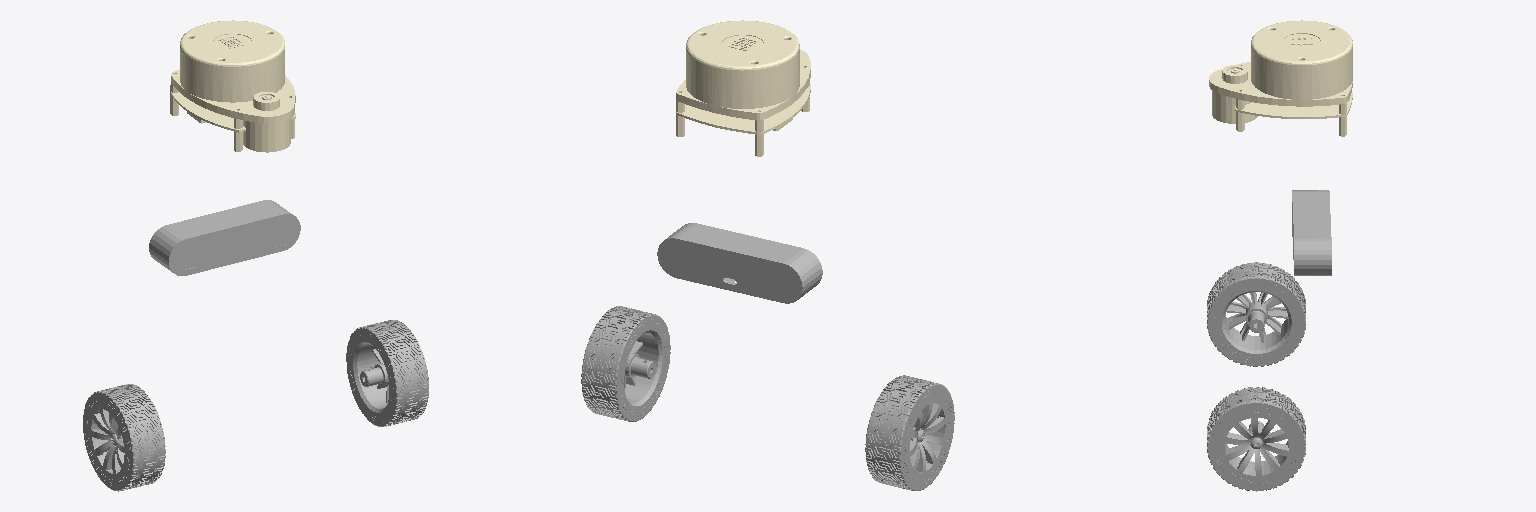
The robot description file, URDF, robot "robot_differential_sena":
<?xml version="1.0" encoding="utf-8"?>
<!-- This URDF was automatically created by SolidWorks to URDF Exporter! Originally created by [author] ([email redacted]) 
     Commit Version: 1.6.0-1-g15f4949  Build Version: 1.6.7594.29634
     For more information, please see http://wiki.ros.org/sw_urdf_exporter -->
<robot
  name="robot_differential_sena">
  <link
    name="base_link">
    <inertial>
      <origin
        xyz="-0.00071212 -0.046397 0.099495"
        rpy="0 0 0" />
      <mass
        value="3" />
      <inertia
        ixx="0.003316"
        ixy="0"
        ixz="0"
        iyy="0.0042711"
        iyz="0"
        izz="0.0068629" />
    </inertial>
    <visual>
      <origin
        xyz="0 0 0"
        rpy="0 0 0" />
      <geometry>
        <mesh
          filename="package://robot_differential_sena/meshes/base_link.STL" />
      </geometry>
      <material
        name="">
        <color
          rgba="0.61961 0.40784 0.2 1" />
      </material>
    </visual>
    <collision>
      <origin
        xyz="0 0 0"
        rpy="0 0 0" />
      <geometry>
        <mesh
          filename="package://robot_differential_sena/meshes/base_link.STL" />
      </geometry>
    </collision>
  </link>
  <link
    name="RuedaIzquierda_Link">
    <inertial>
      <origin
        xyz="-0.018807 1.1948E-08 -5.6798E-08"
        rpy="0 0 0" />
      <mass
        value="0.033874" />
      <inertia
        ixx="2.3297E-05"
        ixy="2.9866E-12"
        ixz="-6.1004E-12"
        iyy="1.2633E-05"
        iyz="5.6052E-10"
        izz="1.2633E-05" />
    </inertial>
    <visual>
      <origin
        xyz="0 0 0"
        rpy="0 0 0" />
      <geometry>
        <mesh
          filename="package://robot_differential_sena/meshes/RuedaIzquierda_Link.STL" />
      </geometry>
      <material
        name="">
        <color
          rgba="0.75294 0.75294 0.75294 1" />
      </material>
    </visual>
    <collision>
      <origin
        xyz="0 0 0"
        rpy="0 0 0" />
      <geometry>
        <mesh
          filename="package://robot_differential_sena/meshes/RuedaIzquierda_Link.STL" />
      </geometry>
    </collision>
  </link>
  <joint
    name="RuedaIzquierda_Joint"
    type="continuous">
    <origin
      xyz="-0.0824500000000007 0.0560468635614915 0.0195000000000003"
      rpy="2.18695048006706 0 0" />
    <parent
      link="base_link" />
    <child
      link="RuedaIzquierda_Link" />
    <axis
      xyz="1 0 0" />
  </joint>
  <link
    name="RuedaDerecha_Link">
    <inertial>
      <origin
        xyz="-0.018807 1.1948E-08 -5.6798E-08"
        rpy="0 0 0" />
      <mass
        value="0.033874" />
      <inertia
        ixx="2.3297E-05"
        ixy="2.9866E-12"
        ixz="-6.1004E-12"
        iyy="1.2633E-05"
        iyz="5.6052E-10"
        izz="1.2633E-05" />
    </inertial>
    <visual>
      <origin
        xyz="0 0 0"
        rpy="0 0 0" />
      <geometry>
        <mesh
          filename="package://robot_differential_sena/meshes/RuedaDerecha_Link.STL" />
      </geometry>
      <material
        name="">
        <color
          rgba="0.75294 0.75294 0.75294 1" />
      </material>
    </visual>
    <collision>
      <origin
        xyz="0 0 0"
        rpy="0 0 0" />
      <geometry>
        <mesh
          filename="package://robot_differential_sena/meshes/RuedaDerecha_Link.STL" />
      </geometry>
    </collision>
  </link>
  <joint
    name="RuedaDerecha_Joint"
    type="continuous">
    <origin
      xyz="0.0824499999999997 0.0560468635614933 0.0194999999999997"
      rpy="-2.4864570903593 0 3.14159265358979" />
    <parent
      link="base_link" />
    <child
      link="RuedaDerecha_Link" />
    <axis
      xyz="1 0 0" />
  </joint>
  <link
    name="Camara_Link">
    <inertial>
      <origin
        xyz="-5.878E-05 0.0011119 -0.0003685"
        rpy="0 0 0" />
      <mass
        value="0.01531" />
      <inertia
        ixx="1.7534E-06"
        ixy="-7.2563E-11"
        ixz="1.0539E-09"
        iyy="1.574E-05"
        iyz="-2.3537E-08"
        izz="1.6733E-05" />
    </inertial>
    <visual>
      <origin
        xyz="0 0 0"
        rpy="0 0 0" />
      <geometry>
        <mesh
          filename="package://robot_differential_sena/meshes/Camara_Link.STL" />
      </geometry>
      <material
        name="">
        <color
          rgba="0.75294 0.75294 0.75294 1" />
      </material>
    </visual>
    <collision>
      <origin
        xyz="0 0 0"
        rpy="0 0 0" />
      <geometry>
        <mesh
          filename="package://robot_differential_sena/meshes/Camara_Link.STL" />
      </geometry>
    </collision>
  </link>
  <joint
    name="Camara_Joint"
    type="fixed">
    <origin
      xyz="-0.00195837494962821 0.0932796943801035 0.1263"
      rpy="1.5707963267949 0 0.0185195771248791" />
    <parent
      link="base_link" />
    <child
      link="Camara_Link" />
    <axis
      xyz="0 0 0" />
  </joint>
  <link
    name="Lidar_Link">
    <inertial>
      <origin
        xyz="-0.0074842 -0.010758 -9.2198E-05"
        rpy="0 0 0" />
      <mass
        value="0" />
      <inertia
        ixx="0.00060896"
        ixy="-0.00015822"
        ixz="-8.019E-07"
        iyy="0.001091"
        iyz="3.1026E-06"
        izz="0.00095226" />
    </inertial>
    <visual>
      <origin
        xyz="0 0 0"
        rpy="0 0 0" />
      <geometry>
        <mesh
          filename="package://robot_differential_sena/meshes/Lidar_Link.STL" />
      </geometry>
      <material
        name="">
        <color
          rgba="1 0.96471 0.84314 1" />
      </material>
    </visual>
    <collision>
      <origin
        xyz="0 0 0"
        rpy="0 0 0" />
      <geometry>
        <mesh
          filename="package://robot_differential_sena/meshes/Lidar_Link.STL" />
      </geometry>
    </collision>
  </link>
  <joint
    name="Lidar_Joint"
    type="fixed">
    <origin
      xyz="0 0.07275 0.2396"
      rpy="-1.5707963267949 0 -1.5707963267949" />
    <parent
      link="base_link" />
    <child
      link="Lidar_Link" />
    <axis
      xyz="0 0 0" />
  </joint>
</robot>

--- Facts derived from the render (not from the file) ---
Views: 3 orthographic renders of the robot side by side, from view 1: azimuth 30°, elevation 25°; view 2: azimuth 150°, elevation 25°; view 3: azimuth 270°, elevation 25°.
Model robot_differential_sena with 5 links and 4 joints (2 continuous, 2 fixed), rooted at base_link, posed every joint at zero.
Visible links, largest first — view 1: Lidar_Link, Camara_Link, RuedaDerecha_Link, RuedaIzquierda_Link; view 2: Lidar_Link, Camara_Link, RuedaIzquierda_Link, RuedaDerecha_Link; view 3: Lidar_Link, RuedaIzquierda_Link, RuedaDerecha_Link, Camara_Link.
Link boxes in pixels (x1=…): Lidar_Link: x1=170, y1=20, x2=295, y2=152; Camara_Link: x1=149, y1=200, x2=300, y2=275; RuedaDerecha_Link: x1=346, y1=320, x2=428, y2=426; RuedaIzquierda_Link: x1=83, y1=384, x2=165, y2=491; Lidar_Link: x1=676, y1=20, x2=810, y2=156; Camara_Link: x1=657, y1=223, x2=822, y2=303; RuedaIzquierda_Link: x1=865, y1=375, x2=954, y2=490; RuedaDerecha_Link: x1=581, y1=306, x2=670, y2=421; Lidar_Link: x1=1209, y1=20, x2=1352, y2=136; RuedaIzquierda_Link: x1=1207, y1=262, x2=1305, y2=366; RuedaDerecha_Link: x1=1207, y1=387, x2=1305, y2=491; Camara_Link: x1=1292, y1=190, x2=1331, y2=275.
Size in the robot's own frame: 0.2266 by 0.1 by 0.2872 metres.
Meshes: 5 distinct files referenced, 4 mesh visuals loaded (4 binary STL); not drawn: 1 (reference not matched to a file when rendering).
